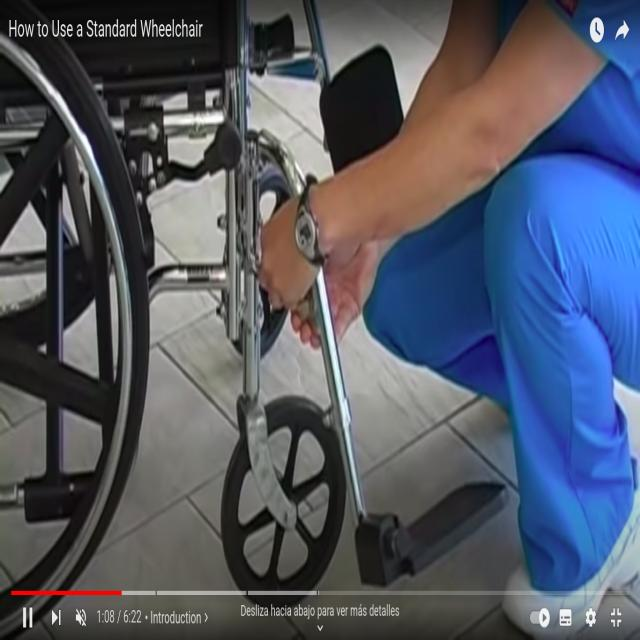wheelchairs: (0, 0, 509, 610)
